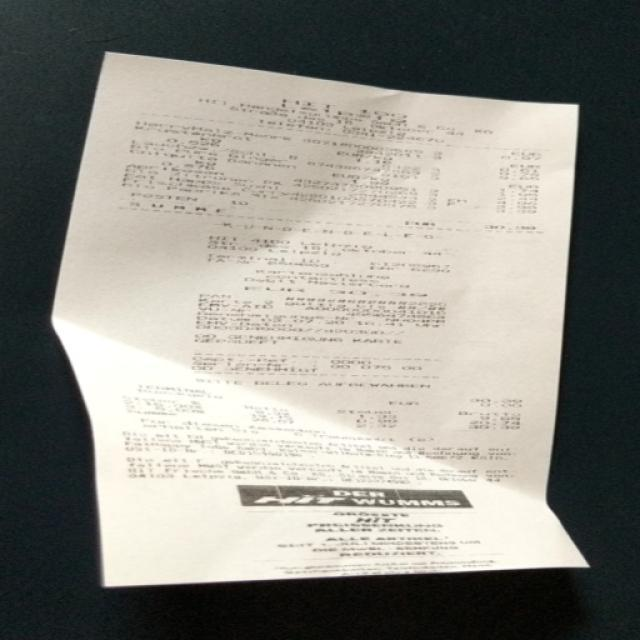document: (52, 54, 585, 586)
